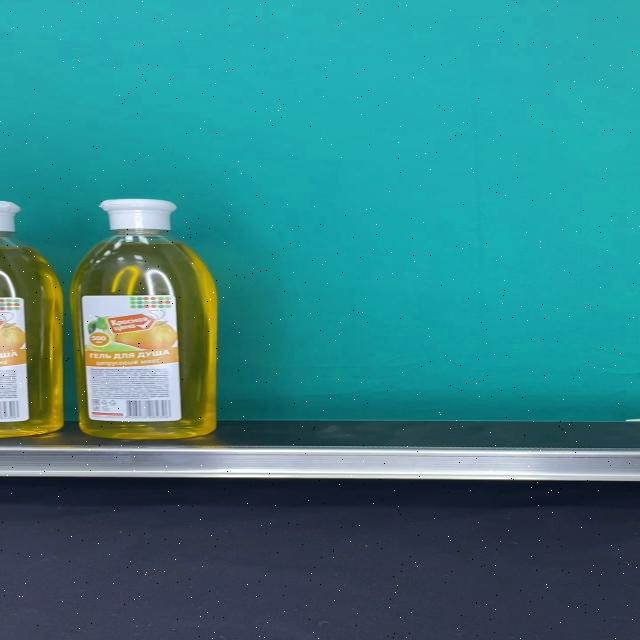Bottle: (70, 199, 216, 440)
Cap: (99, 200, 177, 232)
